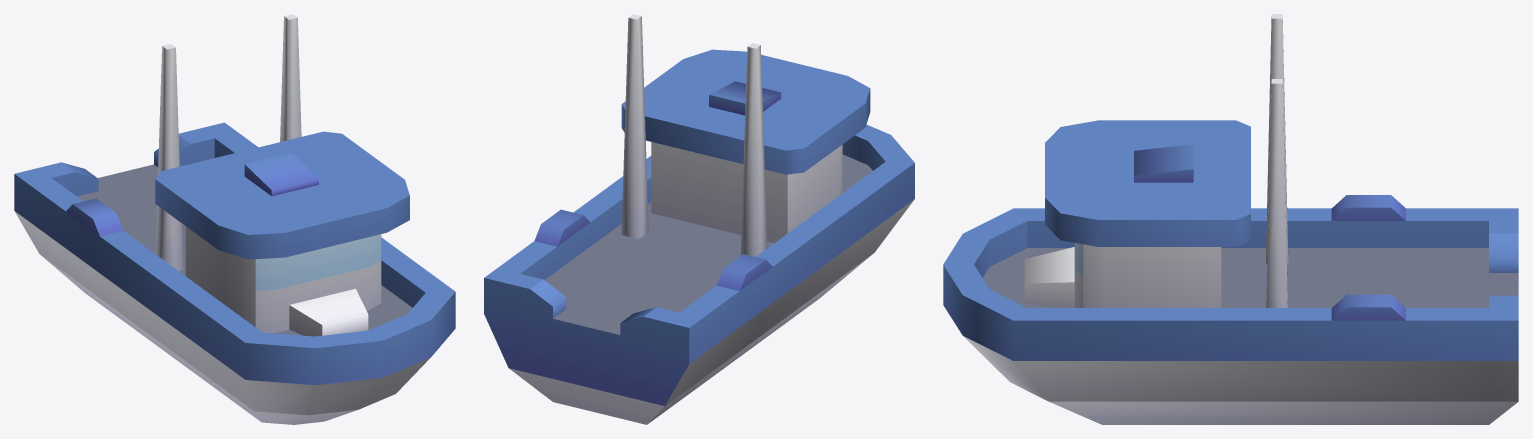
The model's file is boat-fishing-small.glb.
3 views of the same model, side by side, from view 1: azimuth 30°, elevation 25°; view 2: azimuth 150°, elevation 25°; view 3: azimuth 270°, elevation 25° (orthographic). The views are drawn at different scales.
Parts seen in each view (by area): view 1: boat-fishing-small; view 2: boat-fishing-small; view 3: boat-fishing-small.
Part boxes in pixels (x1=…): boat-fishing-small: x1=14, y1=14, x2=455, y2=424; boat-fishing-small: x1=484, y1=14, x2=914, y2=424; boat-fishing-small: x1=943, y1=14, x2=1518, y2=424.
Size of the model in its own units: 1.78 by 2.6 by 3.87.
1 material, 1 textured.
